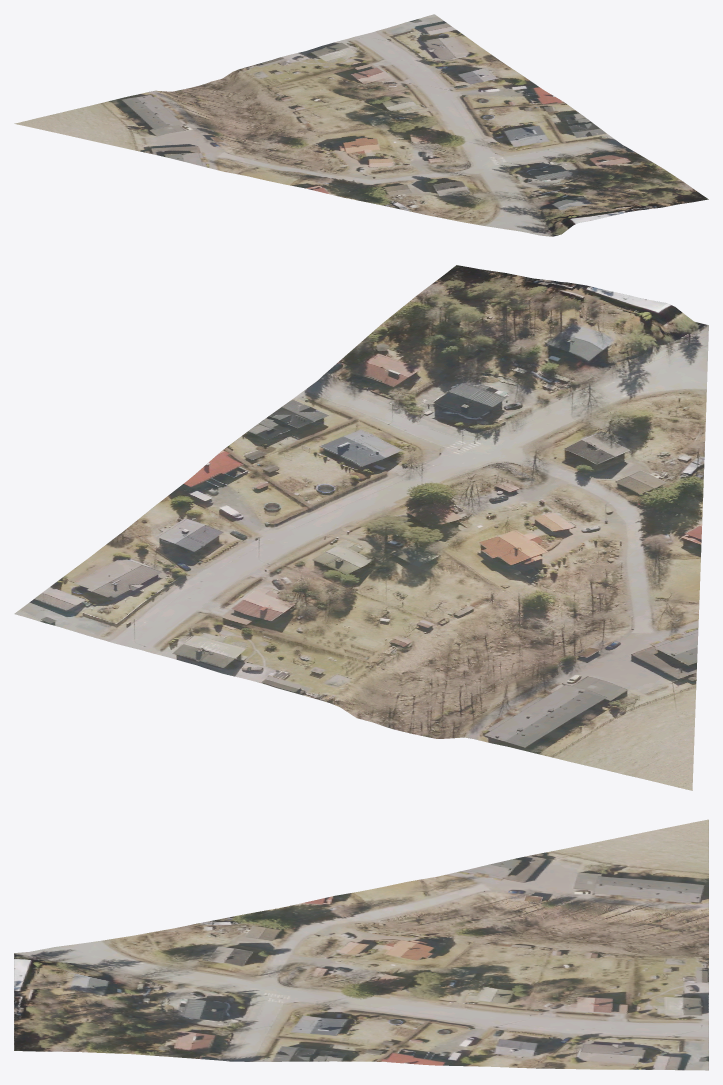
Rendered from CM_Terrain_24489844_6817746.fbx.
3 renders of one model, top to bottom at view 1: azimuth 30°, elevation 25°; view 2: azimuth 150°, elevation 25°; view 3: azimuth 270°, elevation 25°, orthographic. The views are drawn at different scales.
Visible parts, largest first — view 1: CM_Terrain_24489844_6817746_LOD0; view 2: CM_Terrain_24489844_6817746_LOD0; view 3: CM_Terrain_24489844_6817746_LOD0.
Boxes of the visible parts, x1,y1,x2,y2 form: CM_Terrain_24489844_6817746_LOD0: (14,14,708,236); CM_Terrain_24489844_6817746_LOD0: (14,265,708,790); CM_Terrain_24489844_6817746_LOD0: (14,819,708,1070).
Size of what is drawn, in the model's own units: 181 by 15.6 by 205.
